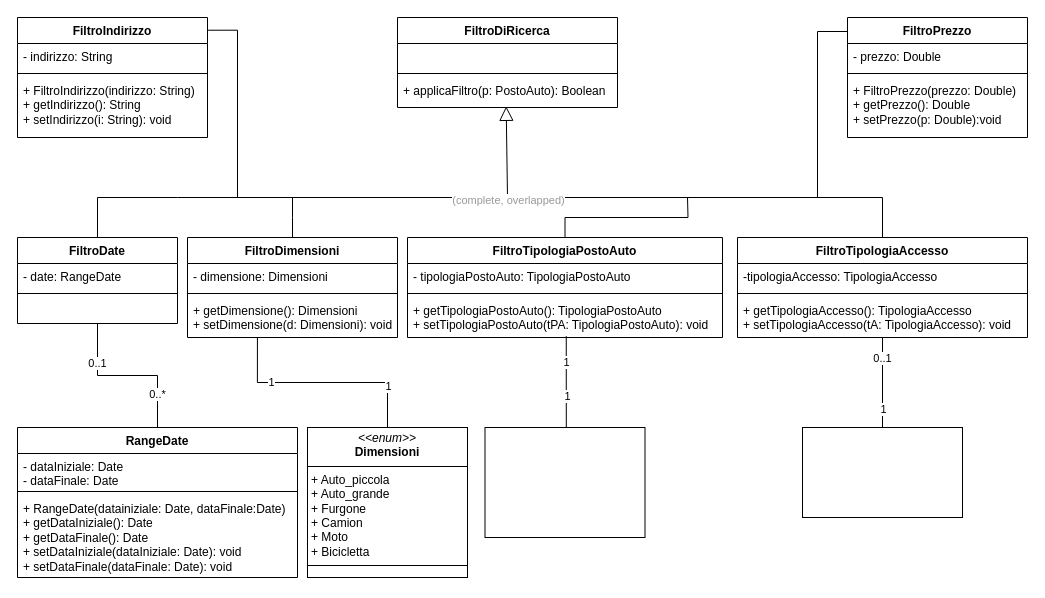
Some shapes in this 1045 by 598 pixel diagram are drawn without their labels. Here are the shapes that lost their labels. From the top down, the centre of each, then its label:
(564,482): <<enum>> TipologiaPostoAuto + Al_chiuso + Outdoor_Coperto + Outdoor_Scoperto
(882,472): <<enum>> TipologiaAccesso + Codice + Chiave
